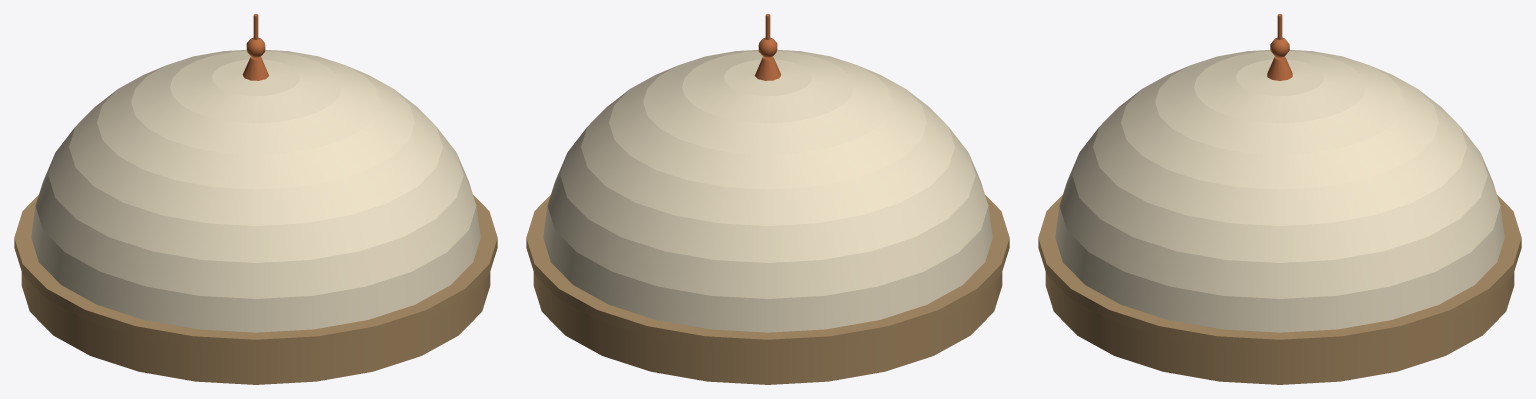
The model's file is dc_dome.glb.
3 renders of one model, left to right at view 1: azimuth 30°, elevation 25°; view 2: azimuth 150°, elevation 25°; view 3: azimuth 270°, elevation 25°, orthographic.
Visible parts, largest first — view 1: dc_dome; view 2: dc_dome; view 3: dc_dome.
Boxes of the visible parts, <box> form: dc_dome: <box>14,14,497,384</box>; dc_dome: <box>526,14,1009,384</box>; dc_dome: <box>1038,14,1521,384</box>.
Bounding box in the file's own units: 5.16 × 3.19 × 5.16.
